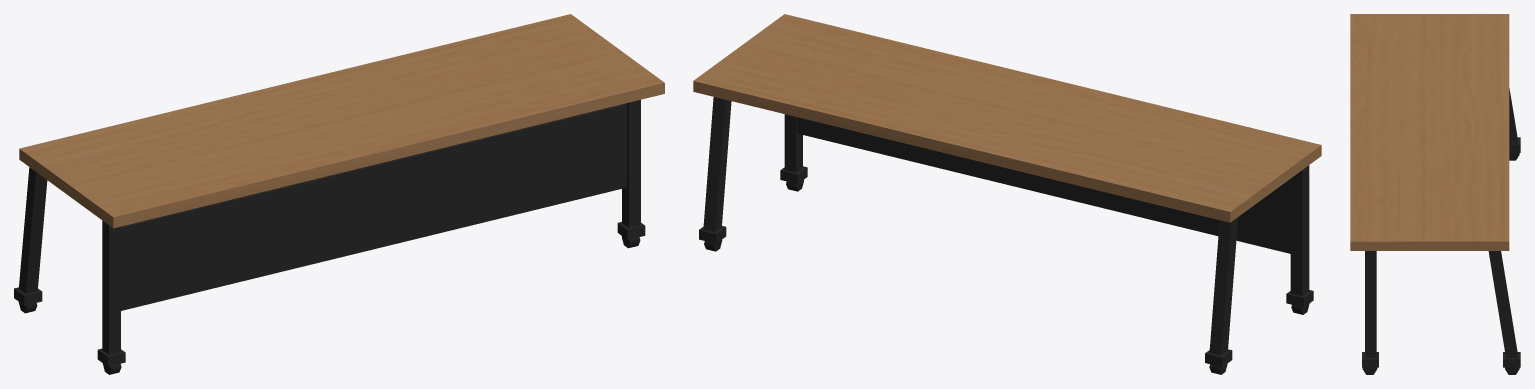
The model's file is desk_large.FBX.
3 renders of one model, left to right at view 1: azimuth 30°, elevation 25°; view 2: azimuth 150°, elevation 25°; view 3: azimuth 270°, elevation 25°, orthographic. The views are drawn at different scales.
Parts seen in each view (by area): view 1: Box033; view 2: Box033; view 3: Box033.
Part boxes in pixels (box(x1,y1,x2,y2)): Box033: box(14, 14, 664, 374); Box033: box(693, 14, 1321, 374); Box033: box(1350, 14, 1520, 374).
Size of the model in its own units: 288 by 82.74 by 91.01.
1 material, 1 textured.
